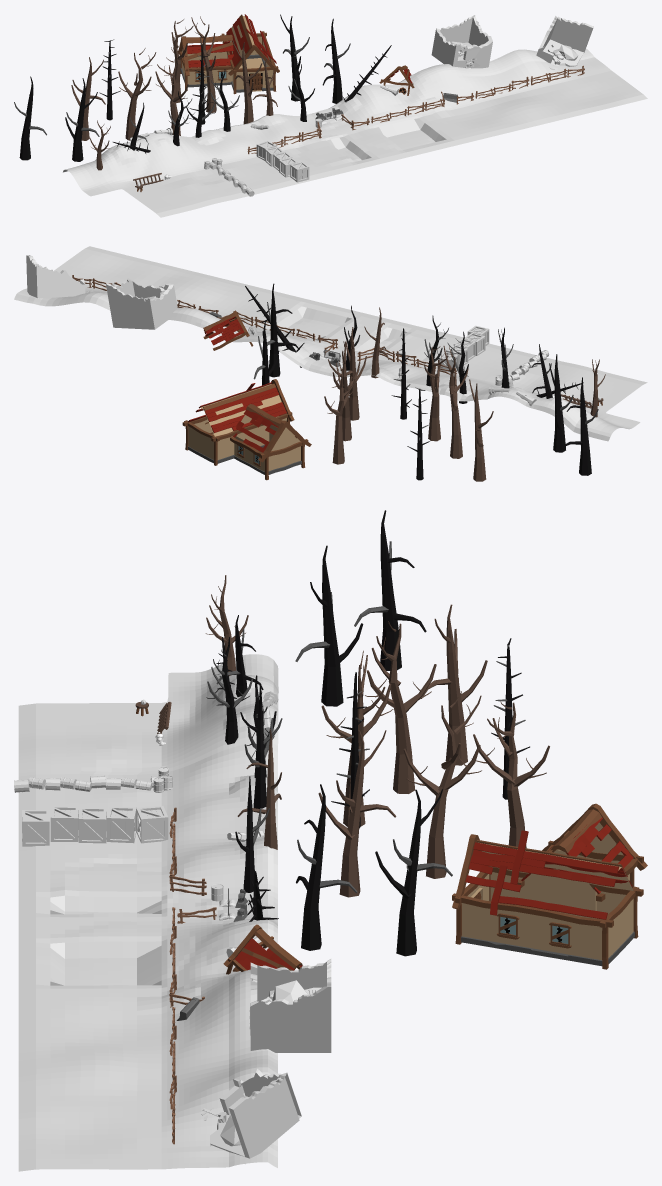
Rendered from Bolum2_Deneme2.fbx.
The picture shows the model from 3 angles, top to bottom: view 1: azimuth 30°, elevation 25°; view 2: azimuth 150°, elevation 25°; view 3: azimuth 270°, elevation 25°; orthographic projection. The views are drawn at different scales.
Parts seen in each view (by area): view 1: Zemin, agac_02, govde_02.001, YikikBina2, YikikBina1, Dash2, Jump2, Dash1, Jump1, cati.003; view 2: Zemin, agac_02, govde_02.001, YikikBina2, YikikBina1, Dash2, Jump2, cati.003, Dash1, Jump1; view 3: Zemin, agac_02, govde_02.001, YikikBina2, YikikBina1, Jump2, Dash2, Jump1, Dash1, cati.003.
Boxes of the visible parts, bbox=[...] form: Zemin: bbox=[63, 48, 647, 217]; agac_02: bbox=[14, 14, 391, 170]; govde_02.001: bbox=[178, 14, 279, 94]; YikikBina2: bbox=[431, 15, 492, 68]; YikikBina1: bbox=[536, 16, 593, 69]; Dash2: bbox=[375, 118, 446, 149]; Jump2: bbox=[256, 141, 309, 182]; Dash1: bbox=[326, 136, 371, 161]; Jump1: bbox=[204, 158, 254, 196]; cati.003: bbox=[379, 65, 414, 95]; Zemin: bbox=[14, 246, 647, 441]; agac_02: bbox=[245, 283, 605, 481]; govde_02.001: bbox=[182, 379, 311, 480]; YikikBina2: bbox=[106, 278, 177, 329]; YikikBina1: bbox=[26, 255, 92, 298]; Dash2: bbox=[269, 306, 351, 340]; Jump2: bbox=[438, 325, 489, 373]; cati.003: bbox=[203, 310, 253, 350]; Dash1: bbox=[355, 327, 406, 354]; Jump1: bbox=[495, 350, 549, 387]; Zemin: bbox=[18, 654, 278, 1171]; agac_02: bbox=[205, 510, 549, 956]; govde_02.001: bbox=[452, 803, 647, 969]; YikikBina2: bbox=[249, 958, 331, 1052]; YikikBina1: bbox=[201, 1069, 301, 1164]; Jump2: bbox=[22, 806, 168, 846]; Dash2: bbox=[50, 941, 161, 985]; Jump1: bbox=[14, 766, 172, 792]; Dash1: bbox=[50, 895, 161, 914]; cati.003: bbox=[223, 924, 302, 974].
Size of the model in its own units: 8880 by 1496 by 4607.
